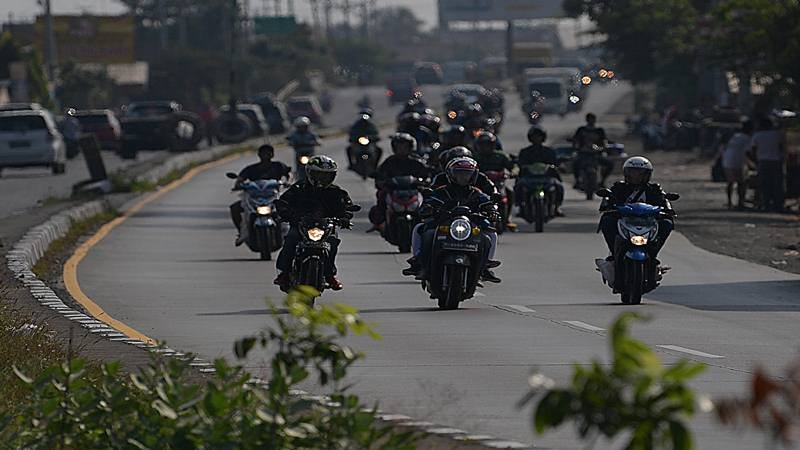motor: (422, 200, 485, 301), (602, 201, 666, 297), (285, 219, 339, 306), (237, 180, 290, 256)
